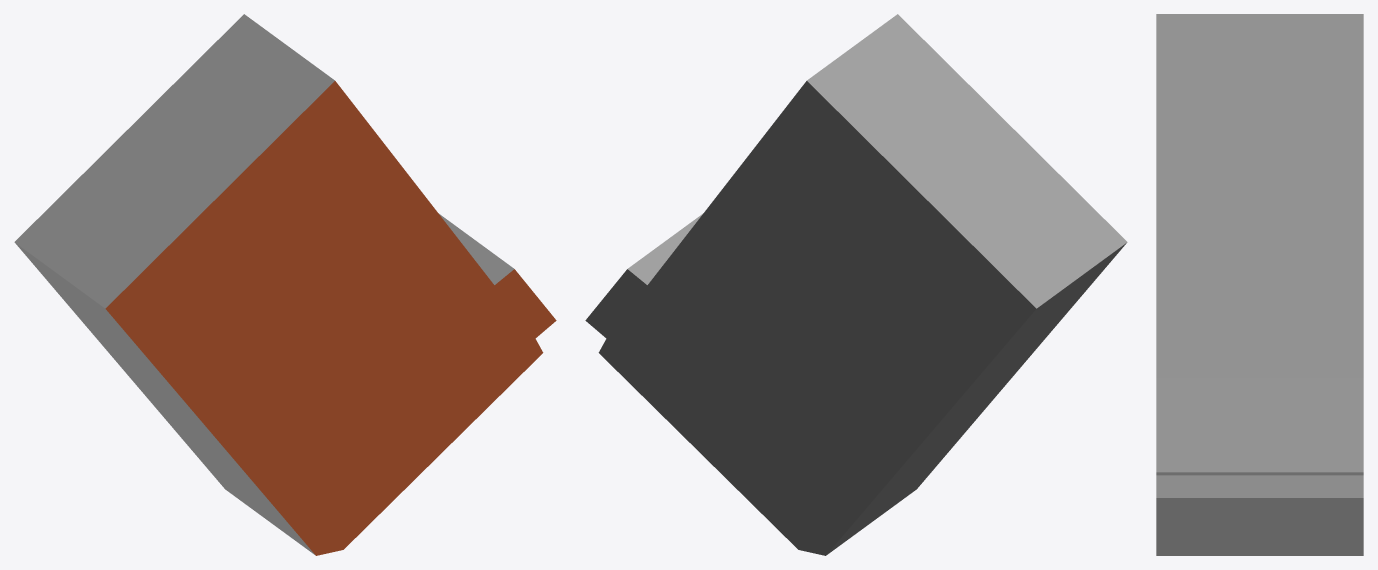
The model's file is construction_0763_assumed_A_Casa_h6m.obj.
The picture shows the model from 3 angles, left to right: view 1: azimuth 30°, elevation 25°; view 2: azimuth 150°, elevation 25°; view 3: azimuth 270°, elevation 25°; orthographic projection. The views are drawn at different scales.
Visible parts, largest first — view 1: construction_0763_assumed_A_Casa; view 2: construction_0763_assumed_A_Casa; view 3: construction_0763_assumed_A_Casa.
Boxes of the visible parts, x1,y1,x2,y2 form: construction_0763_assumed_A_Casa: (14, 14, 556, 555); construction_0763_assumed_A_Casa: (585, 14, 1127, 555); construction_0763_assumed_A_Casa: (1156, 14, 1363, 555).
Size of the model in its own units: 17.17 by 17.13 by 6.
